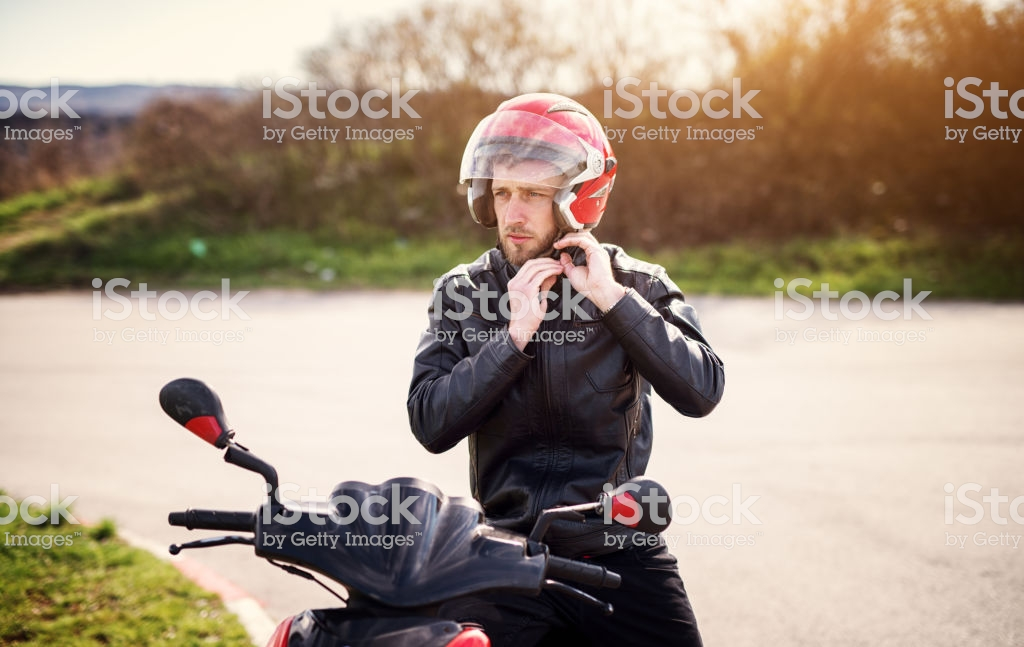helmet: (478, 88, 620, 245)
